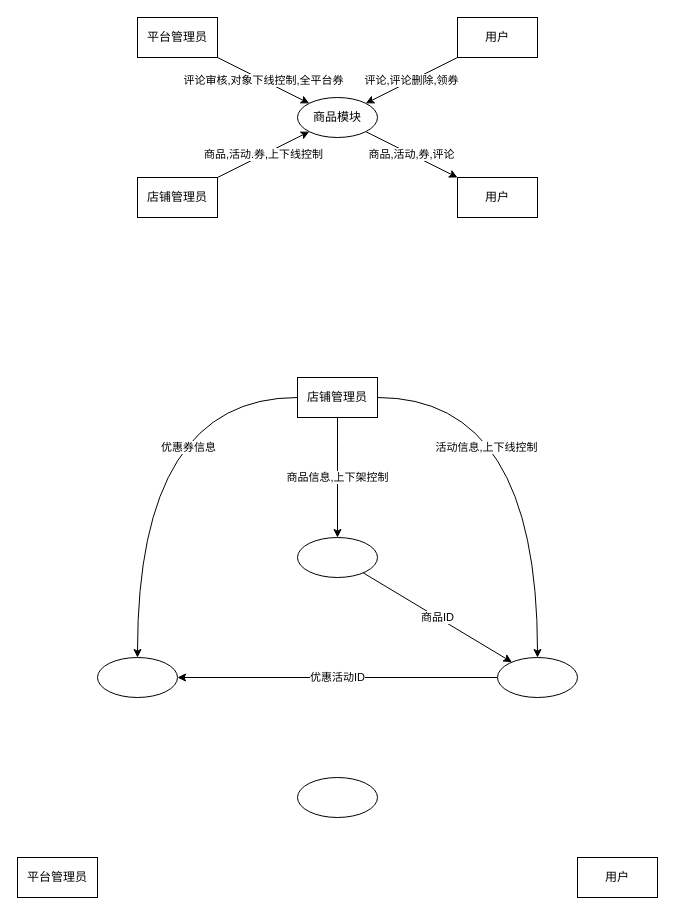
Some shapes in this 675 by 915 pixel diagram are drawn without their labels. The shapes that lost their labels are listed below. From the top down, each one's centre as x and y in pixels, then its label:
At point 337,557: "商品服务".
At point 137,677: "优惠券服务".
At point 537,677: "活动服务".
At point 337,797: "评论服务".
